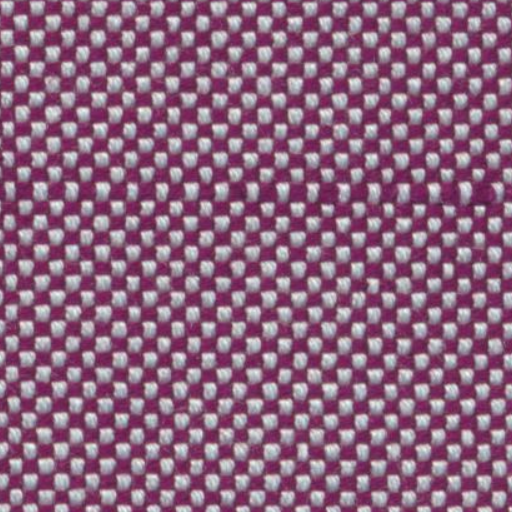DaiSha: (12, 174, 488, 215)
